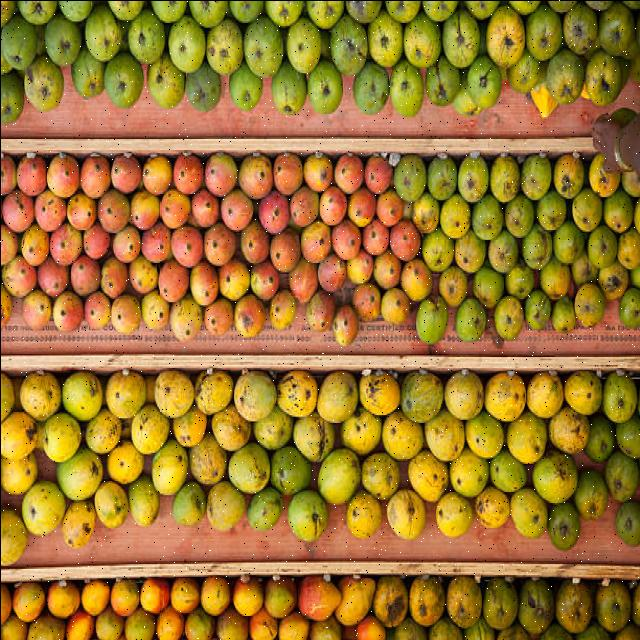mango: (532, 450, 578, 503), (55, 446, 101, 499), (316, 448, 360, 503), (21, 480, 65, 535), (485, 4, 524, 66), (330, 15, 368, 76), (244, 15, 282, 76), (584, 48, 622, 106), (292, 410, 334, 462), (545, 48, 584, 104), (84, 2, 121, 61), (441, 9, 479, 66), (146, 51, 184, 108), (168, 14, 205, 72), (400, 371, 442, 422), (316, 371, 358, 422), (234, 370, 276, 421), (24, 53, 62, 109), (402, 11, 440, 66), (104, 51, 142, 106), (506, 410, 546, 462), (288, 489, 328, 541), (525, 2, 561, 59), (228, 442, 269, 492), (19, 371, 60, 421), (409, 449, 448, 501), (358, 367, 400, 415), (205, 18, 241, 74), (188, 431, 226, 484), (484, 372, 525, 421), (334, 575, 374, 625), (424, 408, 464, 458), (61, 371, 101, 421), (296, 574, 340, 619), (0, 13, 36, 68), (555, 579, 592, 632), (381, 409, 421, 458), (270, 445, 310, 494), (151, 438, 186, 494), (128, 8, 164, 62), (548, 405, 589, 452), (340, 407, 381, 454), (368, 8, 401, 66), (386, 488, 425, 537), (130, 403, 169, 452), (482, 576, 518, 629), (598, 2, 634, 55), (444, 369, 482, 419), (42, 412, 80, 462), (466, 54, 501, 108), (389, 58, 422, 115), (276, 370, 316, 417), (594, 579, 630, 631), (450, 448, 489, 496), (206, 481, 245, 529), (286, 17, 320, 72), (271, 60, 306, 113), (70, 45, 105, 98), (105, 371, 145, 417), (518, 578, 552, 632), (562, 2, 598, 53), (352, 62, 388, 113), (44, 13, 80, 64), (211, 404, 250, 451), (154, 369, 192, 417), (446, 575, 481, 627), (424, 54, 459, 106), (308, 58, 341, 113), (510, 487, 546, 537), (465, 410, 504, 456), (361, 452, 399, 499), (185, 60, 220, 111), (252, 405, 292, 449), (409, 575, 444, 625), (372, 574, 406, 625), (435, 491, 472, 537), (604, 451, 639, 499), (0, 410, 35, 458), (602, 372, 636, 421), (61, 499, 95, 548), (564, 370, 601, 415), (526, 371, 562, 417), (574, 469, 606, 520), (94, 480, 128, 528), (194, 369, 231, 413), (228, 60, 261, 109), (128, 474, 159, 526), (345, 491, 380, 537), (548, 500, 580, 550), (456, 151, 488, 201), (489, 449, 526, 492), (85, 408, 121, 452), (238, 152, 272, 198), (415, 294, 446, 344), (106, 439, 142, 482), (169, 292, 201, 340), (246, 487, 282, 529), (1, 254, 36, 297), (506, 48, 540, 92), (471, 193, 502, 241), (0, 508, 26, 565), (519, 153, 551, 199), (472, 262, 504, 308), (475, 485, 509, 528), (394, 152, 425, 199), (46, 152, 79, 196), (489, 153, 519, 201), (520, 223, 551, 269), (202, 222, 235, 265), (96, 188, 129, 231), (584, 415, 614, 462), (552, 219, 584, 263), (204, 152, 236, 196), (452, 67, 481, 115), (264, 575, 296, 618), (588, 153, 620, 196), (421, 227, 452, 271), (439, 193, 470, 237), (539, 255, 570, 299), (269, 227, 300, 271), (258, 189, 289, 233), (172, 405, 206, 445), (574, 282, 604, 327), (571, 186, 601, 231), (552, 153, 582, 198), (170, 225, 202, 267), (49, 221, 81, 263), (240, 217, 269, 263), (400, 258, 431, 301), (218, 258, 249, 301), (158, 258, 189, 301), (11, 582, 45, 621), (504, 193, 534, 237), (602, 187, 632, 231), (16, 152, 46, 196), (596, 258, 628, 299), (1, 189, 32, 231), (426, 156, 456, 199), (455, 297, 485, 340), (234, 293, 264, 336), (220, 188, 251, 229), (586, 225, 616, 267), (488, 230, 518, 272), (80, 154, 110, 196), (190, 259, 218, 304), (305, 288, 334, 331), (34, 189, 65, 229), (288, 257, 316, 301), (200, 575, 230, 616), (504, 258, 534, 299), (172, 153, 202, 194), (300, 220, 330, 261), (160, 187, 190, 228), (52, 290, 82, 331), (46, 581, 79, 618), (272, 152, 301, 194), (20, 223, 49, 265), (110, 153, 141, 192), (494, 295, 522, 338), (232, 576, 262, 616), (535, 189, 565, 229), (389, 219, 419, 259), (140, 221, 170, 261), (110, 294, 140, 334), (38, 257, 68, 297), (21, 289, 51, 329), (289, 185, 318, 226), (411, 191, 439, 233), (331, 303, 358, 346), (346, 186, 375, 226), (142, 154, 171, 194), (331, 218, 360, 258), (250, 259, 279, 299), (130, 189, 159, 229), (70, 255, 99, 295), (215, 605, 248, 640), (438, 265, 466, 306), (316, 253, 346, 291), (128, 255, 158, 293), (66, 191, 96, 229), (0, 71, 22, 122), (334, 152, 362, 192), (110, 578, 139, 616), (80, 578, 109, 616), (302, 152, 331, 190), (380, 287, 409, 325), (615, 500, 640, 544), (615, 414, 640, 458), (372, 249, 400, 288), (141, 290, 169, 329), (139, 576, 169, 612), (155, 603, 184, 640), (524, 288, 550, 329), (269, 288, 295, 329), (191, 188, 219, 226), (364, 155, 391, 194), (319, 185, 346, 224), (189, 0, 228, 27), (184, 605, 214, 640), (111, 225, 140, 261), (306, 0, 342, 29), (100, 257, 126, 297), (361, 217, 389, 254), (352, 282, 380, 319), (375, 188, 402, 226), (124, 607, 155, 640), (170, 577, 199, 612), (84, 290, 110, 329), (616, 227, 640, 269), (204, 298, 232, 334), (82, 221, 109, 258), (265, 0, 302, 27), (27, 613, 63, 640), (95, 605, 122, 640), (346, 249, 372, 284), (249, 607, 276, 640), (18, 0, 56, 23), (279, 611, 309, 640), (551, 296, 575, 332), (619, 287, 640, 327), (67, 609, 94, 640), (309, 616, 340, 640), (356, 615, 385, 640), (386, 0, 420, 21), (58, 0, 92, 21), (229, 0, 262, 21), (108, 0, 144, 19), (422, 0, 456, 19)
